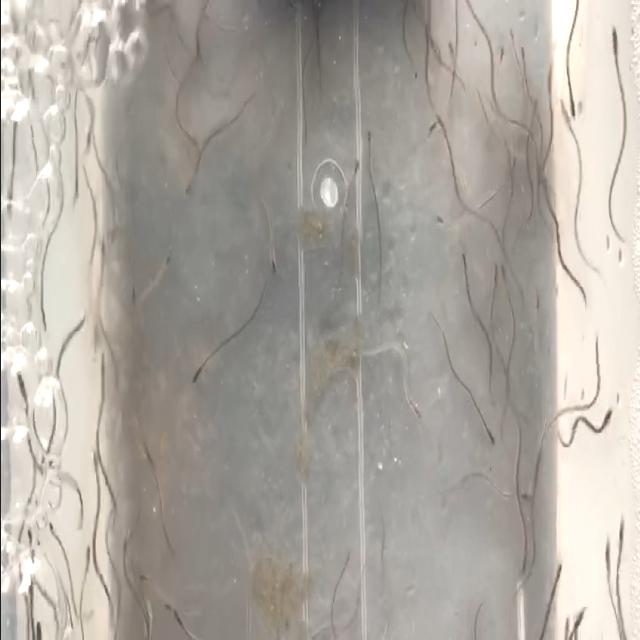active_glass_eel: (180, 150, 212, 232), (595, 0, 623, 77), (402, 376, 428, 440), (358, 122, 388, 172), (190, 1, 206, 76), (588, 388, 614, 431), (607, 495, 625, 549), (474, 422, 496, 464), (188, 346, 205, 400), (502, 129, 520, 179), (595, 520, 613, 570), (520, 88, 540, 126), (406, 32, 420, 86), (554, 78, 570, 125), (74, 150, 85, 218), (126, 264, 140, 316), (511, 539, 529, 579), (135, 548, 151, 590), (439, 20, 458, 55), (558, 593, 572, 640), (82, 443, 100, 478), (534, 161, 552, 195), (497, 260, 517, 290), (428, 207, 448, 237), (423, 112, 437, 154), (344, 154, 362, 186), (519, 28, 531, 76), (105, 361, 119, 402), (143, 442, 162, 472), (453, 250, 472, 280), (80, 542, 94, 582), (38, 516, 58, 544), (37, 286, 51, 326), (568, 76, 582, 115), (482, 260, 499, 292), (16, 356, 28, 400), (571, 586, 583, 630), (515, 468, 531, 500), (95, 236, 114, 262), (490, 44, 506, 74), (501, 22, 516, 52), (266, 252, 280, 284), (160, 242, 176, 270), (90, 348, 104, 378), (117, 526, 129, 558), (553, 546, 563, 584), (34, 612, 46, 638), (2, 191, 18, 209), (27, 521, 34, 553)
